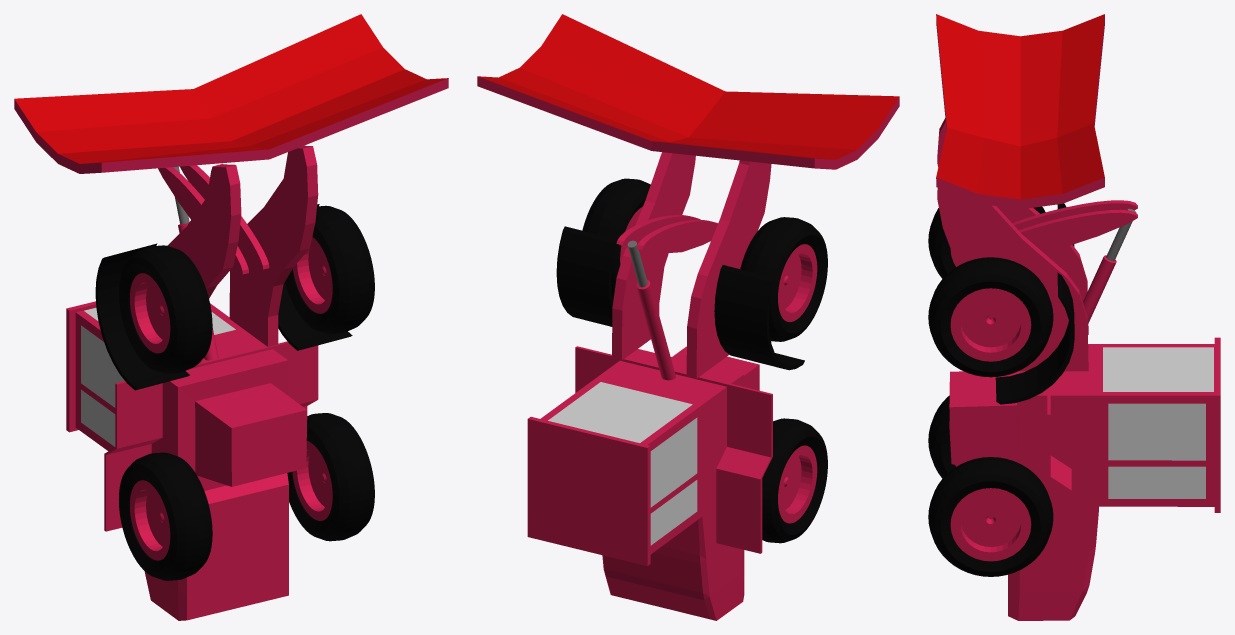
Rendered from Redbull.fbx.
3 views of the same model, side by side, from view 1: azimuth 30°, elevation 25°; view 2: azimuth 150°, elevation 25°; view 3: azimuth 270°, elevation 25° (orthographic). The views are drawn at different scales.
Parts seen in each view (by area): view 1: Cube; view 2: Cube; view 3: Cube.
Boxes of the visible parts, x1,y1,x2,y2 form: Cube: (14, 14, 448, 620); Cube: (477, 14, 899, 620); Cube: (928, 14, 1220, 620).
Bounding box in the file's own units: 958 × 1369 × 724.
